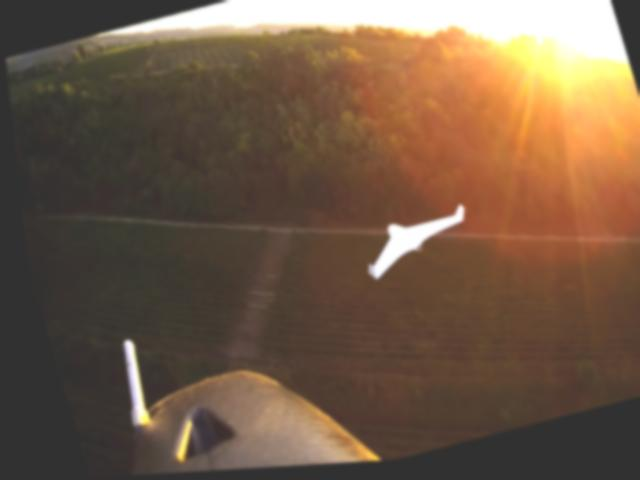plane: (348, 207, 474, 285)
